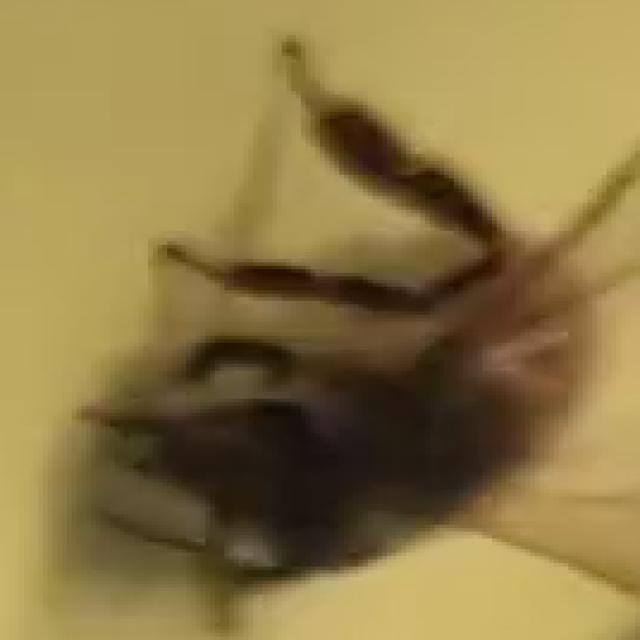honeybee: (73, 11, 640, 560)
